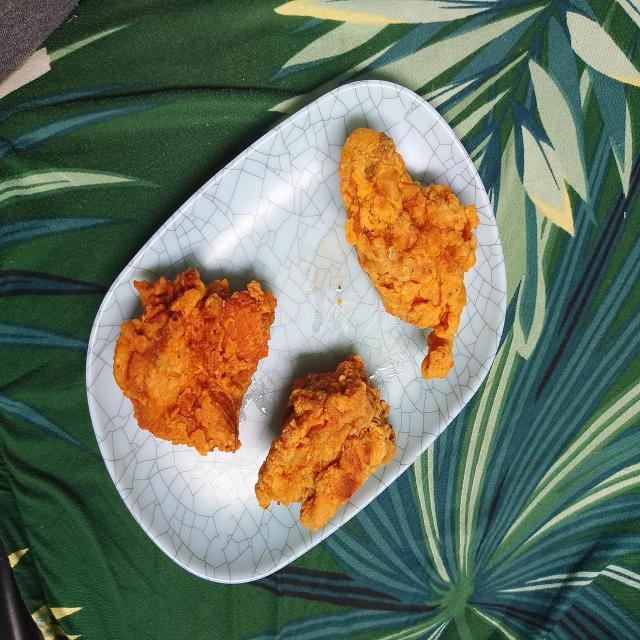Chicken -Fried Chicken-: (112, 251, 278, 461), (337, 114, 478, 353), (249, 322, 411, 521)
